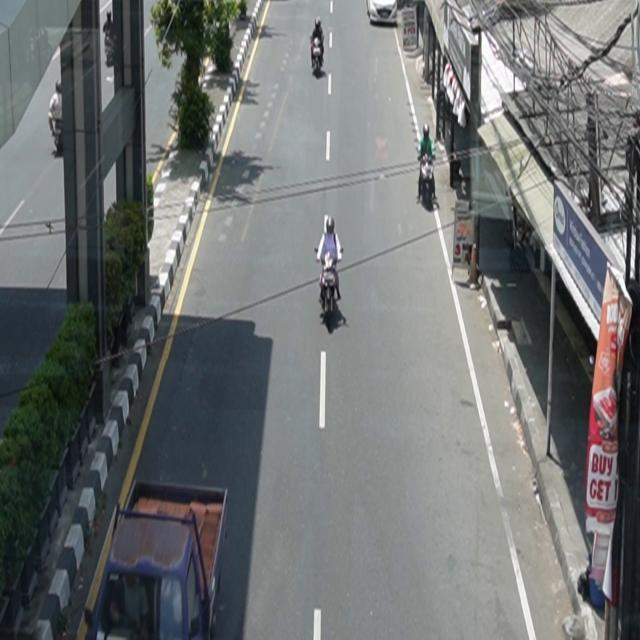bus: (77, 480, 229, 640)
car: (367, 1, 399, 26)
